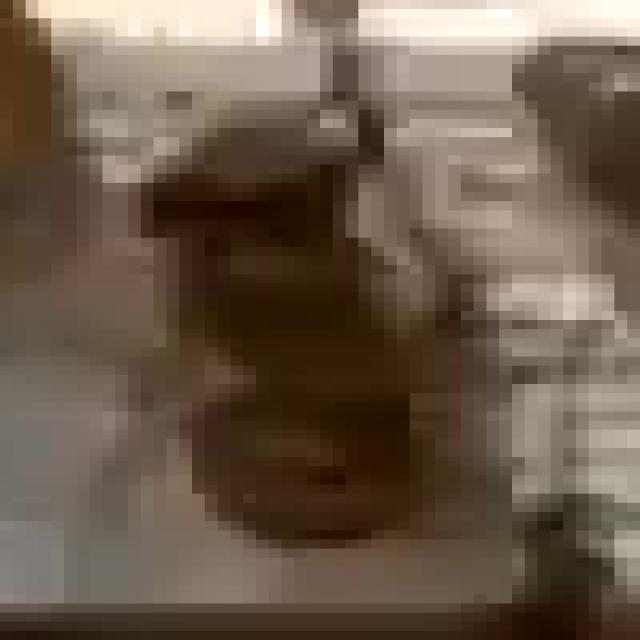honeybee: (84, 67, 512, 551)
